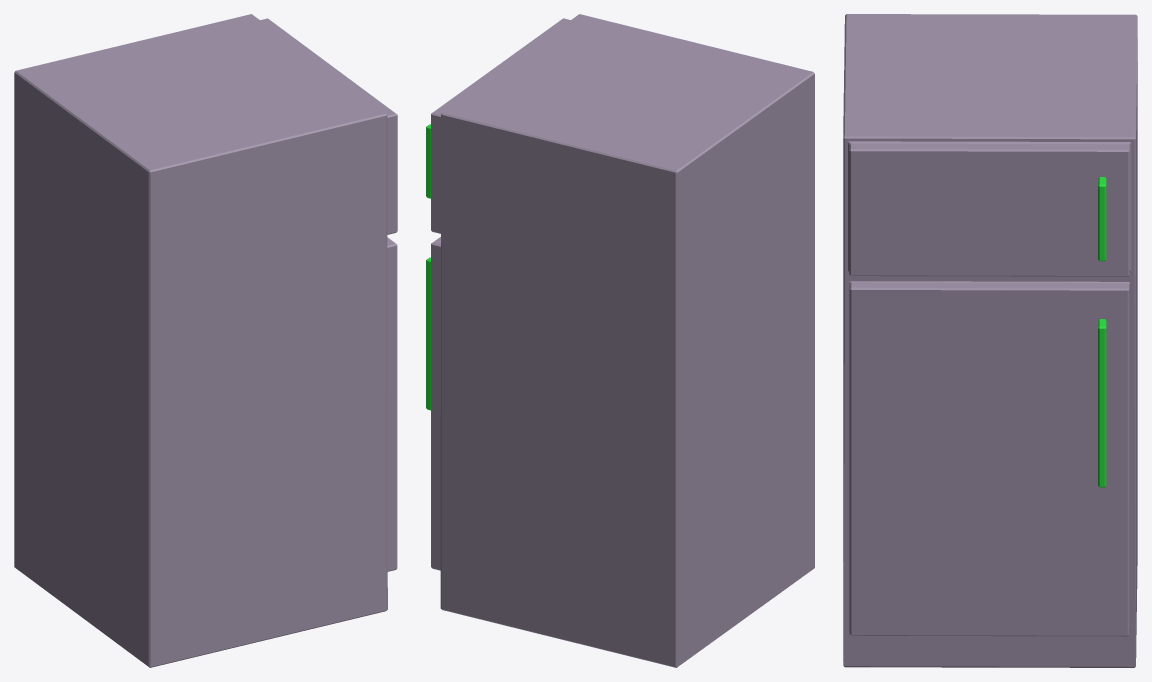
The model's file is Fridge.fbx.
3 views of the same model, side by side, from view 1: azimuth 30°, elevation 25°; view 2: azimuth 150°, elevation 25°; view 3: azimuth 270°, elevation 25° (orthographic). The views are drawn at different scales.
Visible parts, largest first — view 1: Fridge; view 2: Fridge; view 3: Fridge.
Part boxes in pixels (bbox=[...]): Fridge: bbox=[14, 14, 397, 667]; Fridge: bbox=[426, 14, 814, 667]; Fridge: bbox=[843, 14, 1137, 667].
Size of the model in its own units: 1.02 by 1.8 by 0.9054.
